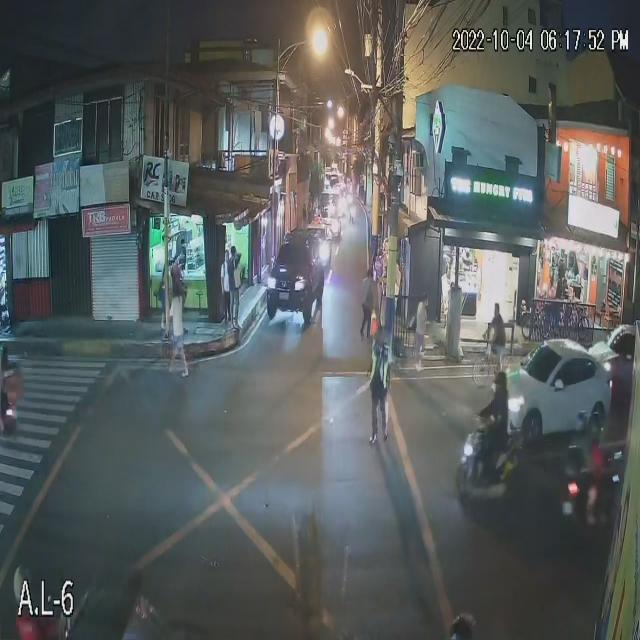helmet: (12, 573, 42, 602), (443, 617, 477, 637), (493, 374, 510, 400), (587, 420, 603, 438)
motorcycle: (564, 478, 622, 537), (466, 434, 515, 491)
rider: (484, 407, 500, 456), (588, 449, 602, 490)
